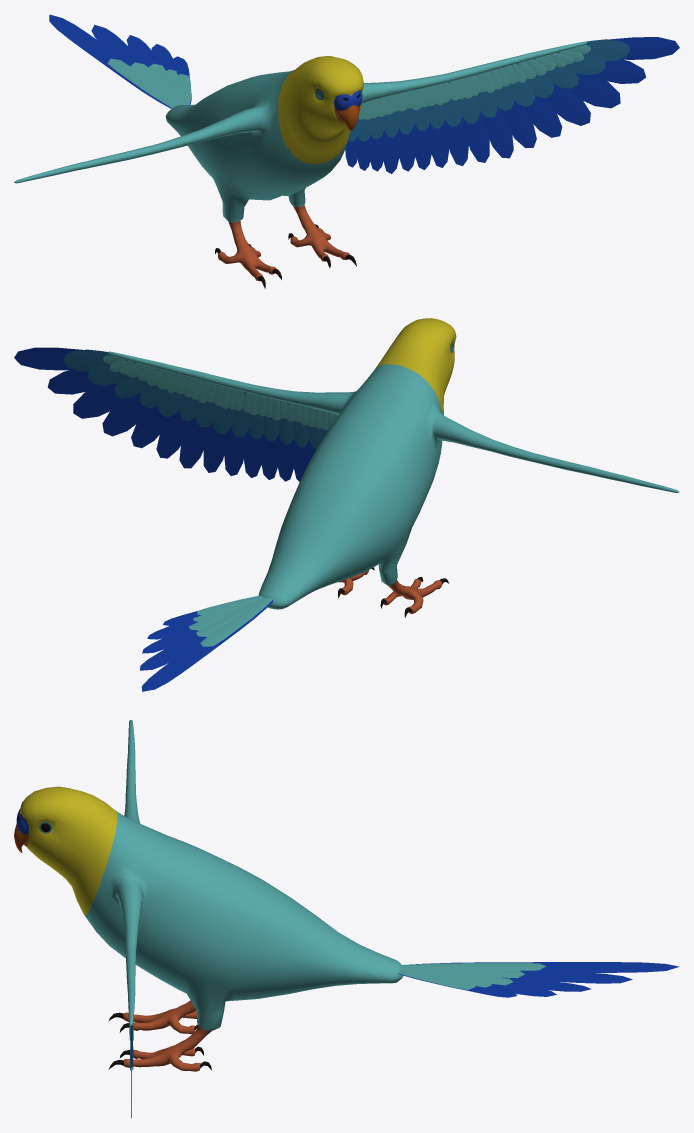
File: budgie.obj
The picture shows the model from 3 angles, top to bottom: view 1: azimuth 30°, elevation 25°; view 2: azimuth 150°, elevation 25°; view 3: azimuth 270°, elevation 25°; orthographic projection. The views are drawn at different scales.
Visible parts, largest first — view 1: budgie, feather_tail_primary_005, feather_flight_primary_014, feather_flight_primary_013, feather_flight_primary_016, feather_flight_primary_011, feather_flight_primary_010, feather_flight_primary_012, feather_flight_primary_015, feather_flight_primary_009, feather_tail_primary_004, feather_tail_secondary_005 (+16 smaller); view 2: budgie, feather_tail_primary_005, feather_flight_primary_014, feather_flight_primary_013, feather_flight_primary_016, feather_flight_primary_010, feather_flight_primary_011, feather_flight_primary_012, feather_flight_primary_015, feather_flight_primary_009, feather_tail_primary_004, feather_tail_secondary_005 (+6 smaller); view 3: budgie, feather_tail_primary_005, feather_tail_primary_004, feather_tail_secondary_005, feather_tail_secondary_004, feather_tail_primary_003.
Part boxes in pixels (bbox=[...]): budgie: bbox=[14, 41, 587, 288]; feather_tail_primary_005: bbox=[49, 14, 171, 108]; feather_flight_primary_014: bbox=[566, 73, 620, 108]; feather_flight_primary_013: bbox=[542, 83, 590, 125]; feather_flight_primary_016: bbox=[598, 37, 679, 59]; feather_flight_primary_011: bbox=[500, 100, 536, 148]; feather_flight_primary_010: bbox=[481, 107, 513, 158]; feather_flight_primary_012: bbox=[521, 95, 562, 137]; feather_flight_primary_015: bbox=[591, 59, 646, 83]; feather_flight_primary_009: bbox=[463, 111, 489, 162]; feather_tail_primary_004: bbox=[91, 24, 148, 66]; feather_tail_secondary_005: bbox=[107, 58, 178, 107]; budgie: bbox=[107, 318, 679, 617]; feather_tail_primary_005: bbox=[141, 600, 272, 691]; feather_flight_primary_014: bbox=[73, 383, 141, 418]; feather_flight_primary_013: bbox=[102, 393, 154, 436]; feather_flight_primary_016: bbox=[14, 347, 128, 370]; feather_flight_primary_010: bbox=[179, 417, 213, 468]; feather_flight_primary_011: bbox=[156, 410, 195, 458]; feather_flight_primary_012: bbox=[131, 405, 174, 448]; feather_flight_primary_015: bbox=[47, 369, 110, 394]; feather_flight_primary_009: bbox=[203, 423, 230, 472]; feather_tail_primary_004: bbox=[140, 630, 206, 670]; feather_tail_secondary_005: bbox=[200, 598, 271, 646]; budgie: bbox=[14, 720, 403, 1071]; feather_tail_primary_005: bbox=[410, 962, 679, 972]; feather_tail_primary_004: bbox=[502, 971, 632, 983]; feather_tail_secondary_005: bbox=[401, 963, 546, 970]; feather_tail_secondary_004: bbox=[402, 967, 524, 978]; feather_tail_primary_003: bbox=[509, 979, 591, 991].
Bounding box in the file's own units: 0.4402 × 0.1471 × 0.3488.
